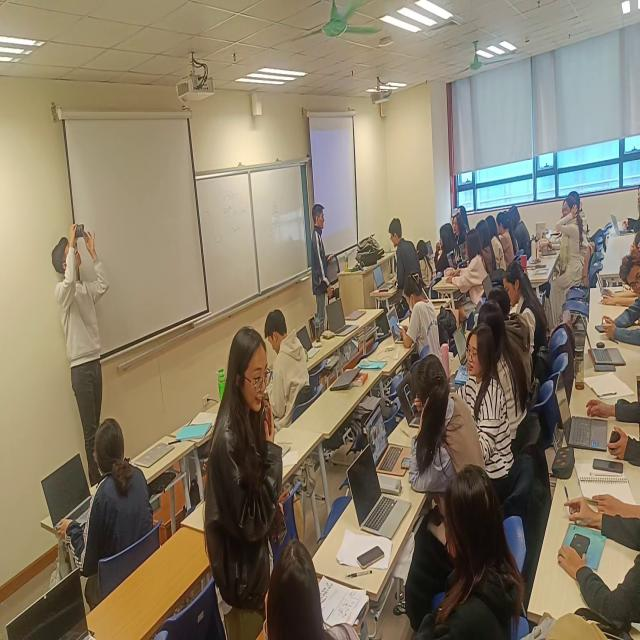raise_head: (432, 221, 457, 281), (623, 180, 640, 247), (459, 198, 475, 243), (452, 215, 468, 253), (628, 227, 640, 258)
stand: (197, 318, 293, 640), (49, 218, 116, 502), (306, 198, 339, 350), (384, 215, 429, 319)
using_computer: (35, 412, 168, 612)
using_phone: (256, 305, 325, 440), (395, 273, 445, 375)
